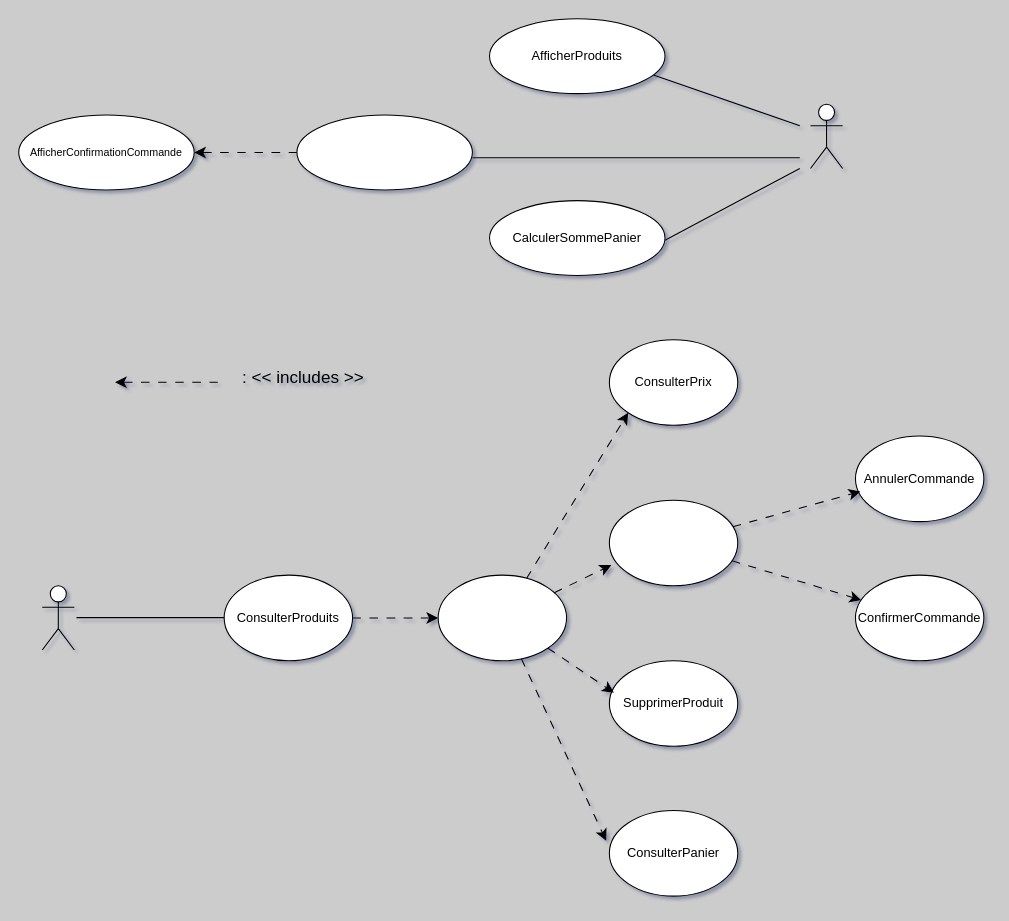
The diagram is 1009 pixels wide and 921 high, and some of its shapes have lost their labels. Here are the shapes that lost their labels. From the top down, the box of each, then its label:
(296, 114, 472, 190): EnregistrerCommande
(809, 103, 843, 169): Application
(608, 499, 738, 586): PasserCommande
(41, 585, 74, 650): Client
(437, 574, 567, 661): AjouterPanier
